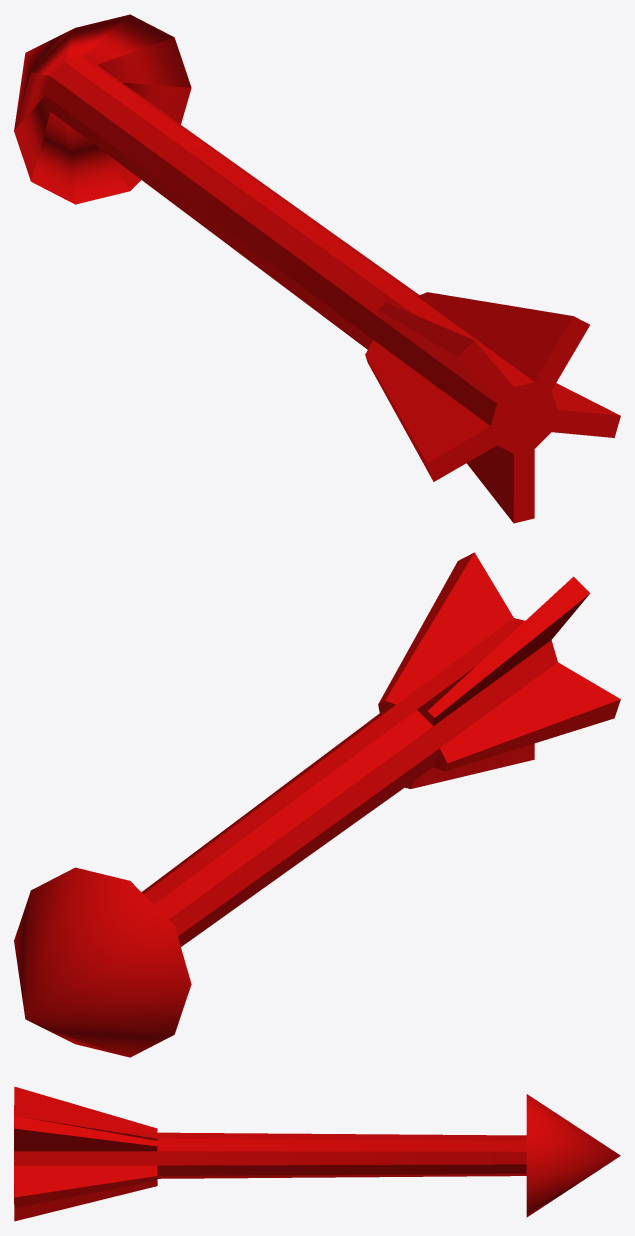
The model's file is arrow_1.fbx.
3 views of the same model, one above another, from view 1: azimuth 30°, elevation 25°; view 2: azimuth 150°, elevation 25°; view 3: azimuth 270°, elevation 25° (orthographic). The views are drawn at different scales.
Parts seen in each view (by area): view 1: arrow; view 2: arrow; view 3: arrow.
Boxes of the visible parts, box(x1,y1,x2,y2) form: arrow: box(14, 14, 620, 523); arrow: box(14, 552, 620, 1057); arrow: box(14, 1086, 620, 1221).
Size of the model in its own units: 0.000857 by 0.000815 by 0.00382.
